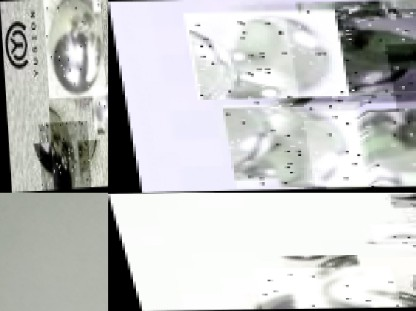ironball: (181, 2, 345, 97), (218, 96, 373, 186), (283, 8, 415, 103), (308, 110, 415, 189), (245, 266, 395, 310), (43, 0, 104, 97), (36, 120, 89, 191), (383, 43, 415, 149), (367, 224, 415, 248), (90, 83, 108, 128), (388, 193, 415, 208), (393, 171, 415, 188), (407, 274, 415, 296), (106, 0, 107, 92)
